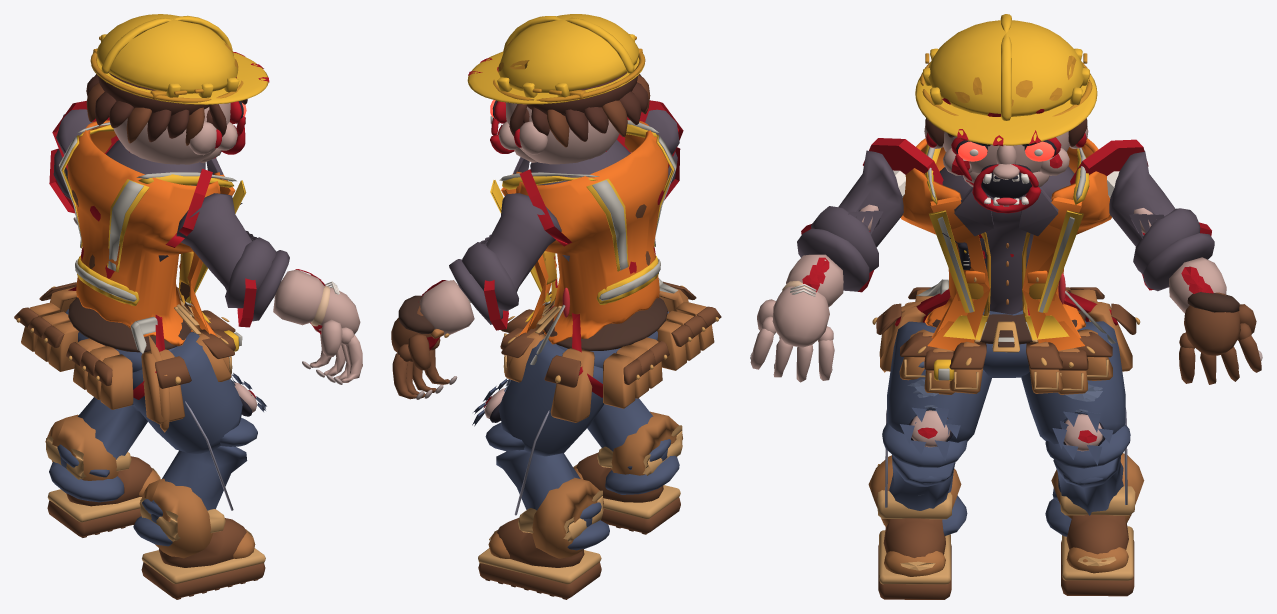
The model's file is inf.construction-worker.glb.
3 views of the same model, side by side, from view 1: azimuth 30°, elevation 25°; view 2: azimuth 150°, elevation 25°; view 3: azimuth 270°, elevation 25° (orthographic). The views are drawn at different scales.
Visible parts, largest first — view 1: torso, head, hip, footR, footL, legR, foreArmR, shinR, shinL, armR, handR, stump_armR (+3 smaller); view 2: torso, head, hip, footL, footR, legL, foreArmL, shinL, handL, armL, shinR, stump_armL (+4 smaller); view 3: head, torso, hip, footR, footL, legL, legR, foreArmR, foreArmL, handL, handR, shinR (+5 smaller).
Part boxes in pixels (x1,y1,x2,y2): torso: (59, 120, 246, 346); head: (86, 14, 269, 164); hip: (14, 282, 242, 432); footR: (139, 478, 265, 599); footL: (45, 414, 160, 537); legR: (132, 331, 266, 510); foreArmR: (225, 237, 340, 326); shinR: (133, 417, 257, 546); shinL: (49, 397, 147, 502); armR: (176, 193, 257, 290); handR: (302, 287, 362, 384); stump_armR: (165, 169, 212, 247); torso: (490, 120, 676, 344); head: (467, 14, 650, 164); hip: (500, 278, 721, 422); footL: (478, 477, 603, 599); footR: (573, 411, 682, 534); legL: (472, 333, 603, 515); foreArmL: (420, 242, 518, 335); shinL: (485, 422, 609, 550); handL: (391, 295, 457, 399); armL: (480, 193, 561, 291); shinR: (587, 398, 679, 494); stump_armL: (519, 169, 572, 246); head: (915, 14, 1097, 213); torso: (901, 138, 1111, 350); hip: (872, 273, 1140, 394); footR: (868, 455, 961, 599); footL: (1051, 453, 1144, 596); legL: (1021, 321, 1127, 504); legR: (885, 321, 991, 507); foreArmR: (782, 206, 878, 306); foreArmL: (1133, 208, 1226, 313); handL: (1179, 292, 1262, 384); handR: (750, 286, 834, 382); shinR: (882, 423, 967, 535).
Size of the model in its own units: 0.6009 by 1.5 by 1.26.
